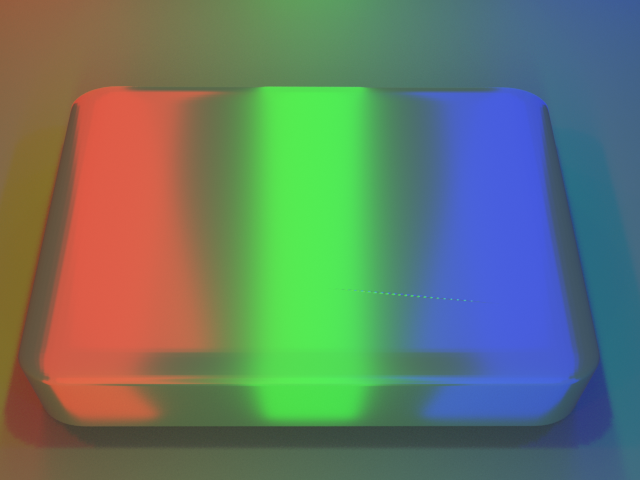scratch: (188, 174, 606, 400)
